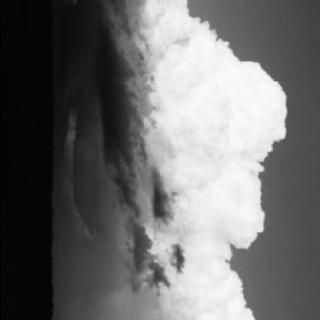Cumulonimbus: (58, 0, 320, 320)
